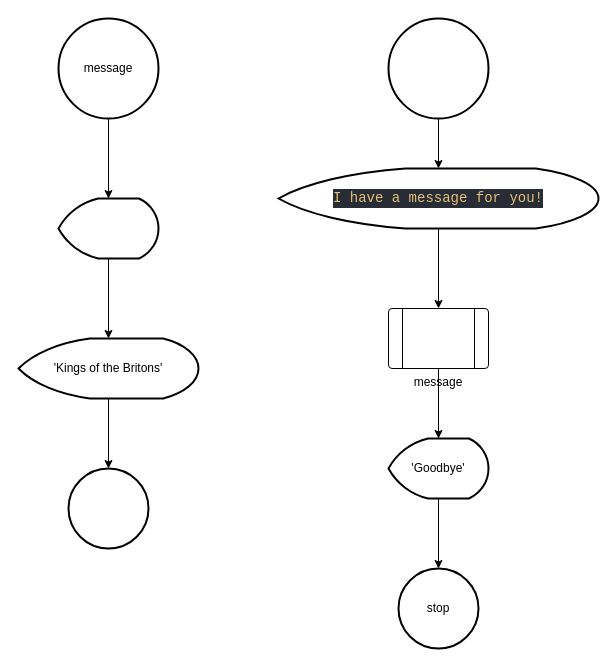
The diagram is 616 pixels wide and 666 high, and some of its shapes have lost their labels. The shapes that lost their labels are listed below. From the top down, each one's box as (x1, y1, x2, y2) in pixels, then its label:
(387, 17, 489, 119): start
(57, 197, 159, 259): 'I amArthur'
(67, 467, 149, 549): Return
